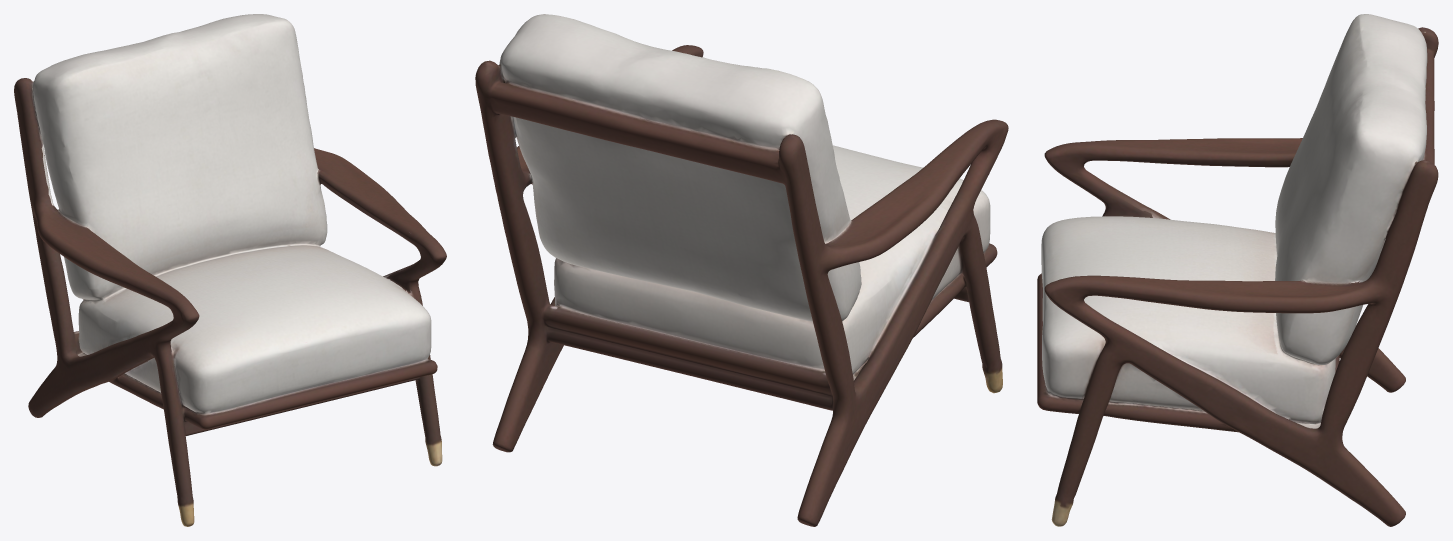
The model's file is product-mid-century-modern-killian-mid-century-accent-chair-cream-arlo-home-01.glb.
3 renders of one model, left to right at view 1: azimuth 30°, elevation 25°; view 2: azimuth 150°, elevation 25°; view 3: azimuth 270°, elevation 25°, orthographic. The views are drawn at different scales.
Parts seen in each view (by area): view 1: geometry_0; view 2: geometry_0; view 3: geometry_0.
Boxes of the visible parts, left/top/right/bottom form: geometry_0: left=14, top=14, right=446, bottom=526; geometry_0: left=475, top=14, right=1008, bottom=526; geometry_0: left=1037, top=14, right=1438, bottom=526.
Size of the model in its own units: 1.79 by 1.97 by 1.84.
Materials: 1 (1 with a texture image).
